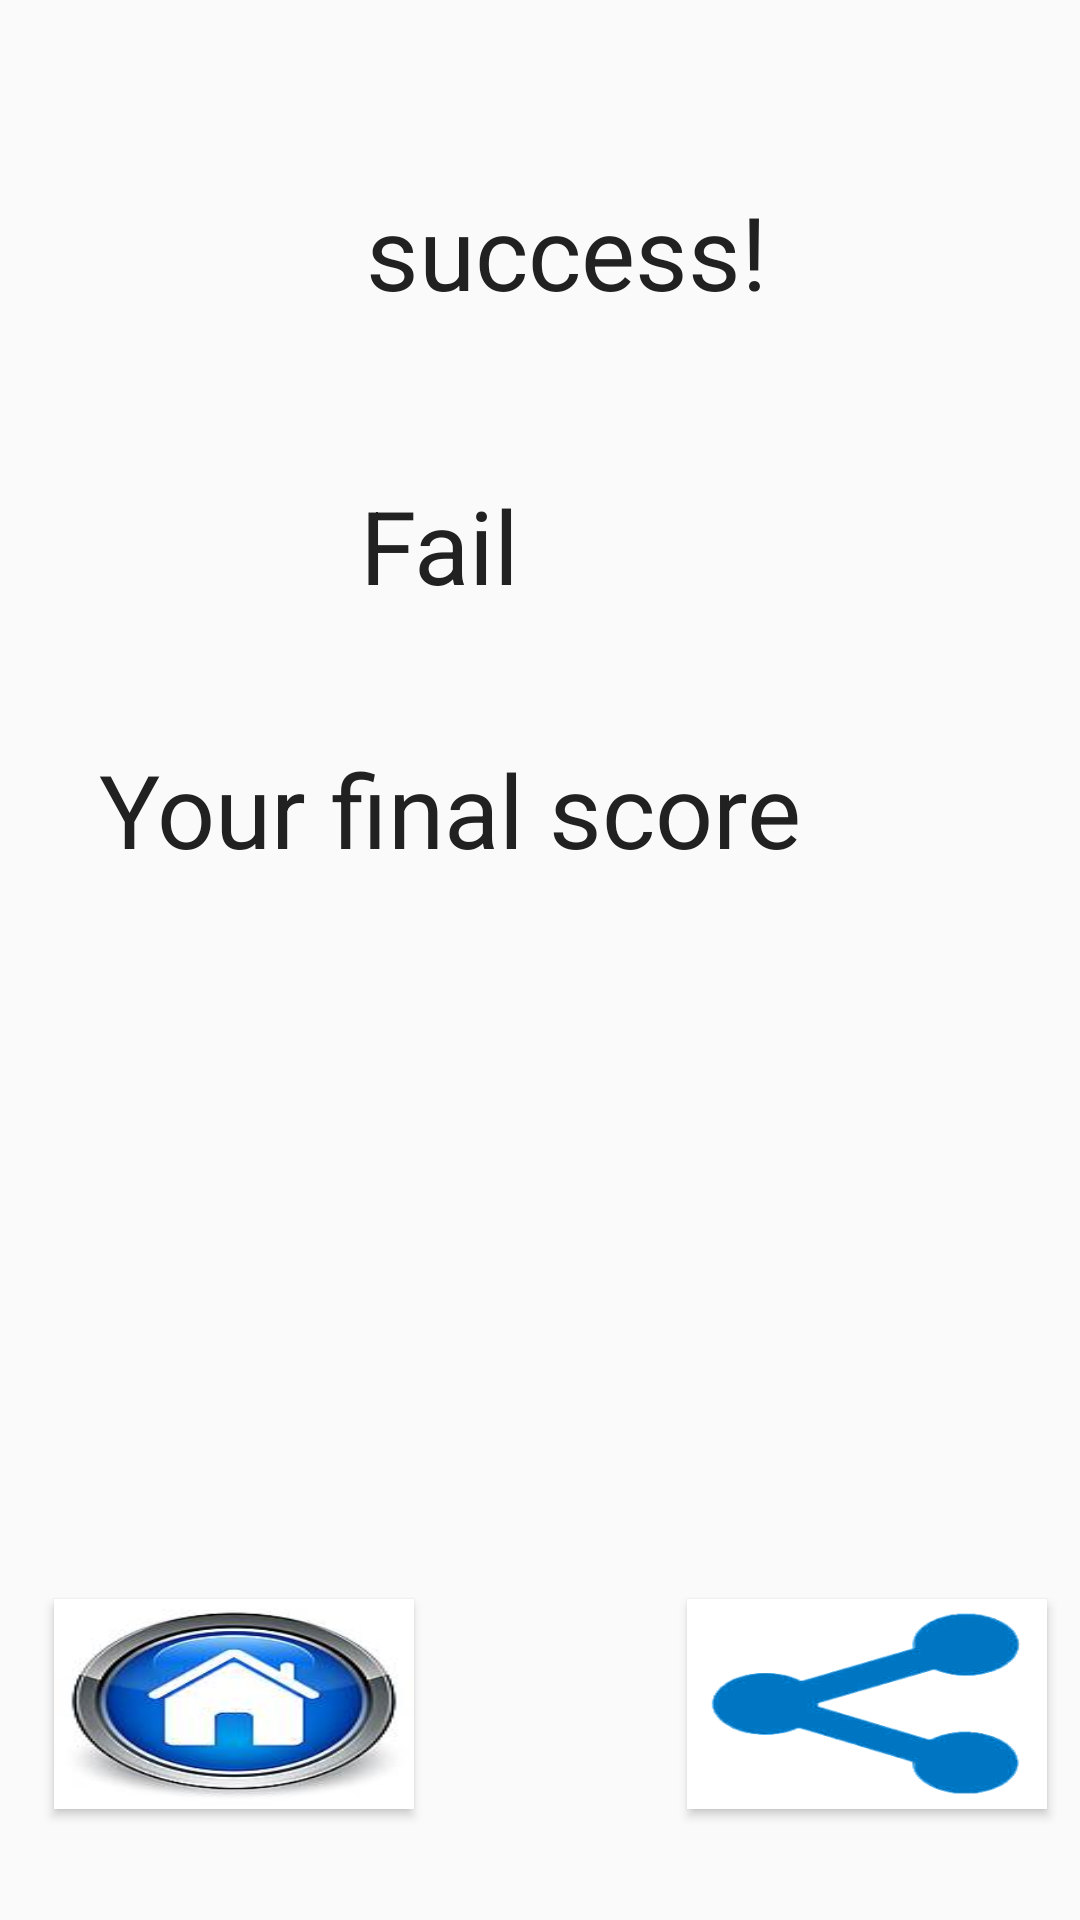

Icons on this 1080 × 1920 Android screen, each with its box as (x1, y1, x2, y2):
home: (71, 1612, 397, 1795)
share: (711, 1613, 1020, 1794)
